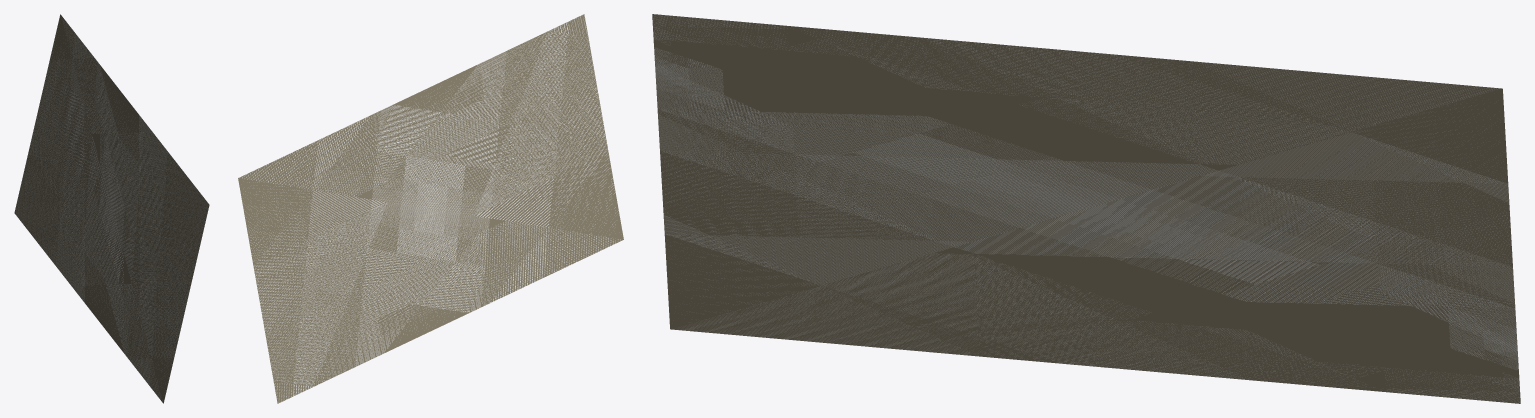
The model's file is 大本钟141.dae.
The picture shows the model from 3 angles, left to right: view 1: azimuth 30°, elevation 25°; view 2: azimuth 150°, elevation 25°; view 3: azimuth 270°, elevation 25°; orthographic projection. The views are drawn at different scales.
Parts seen in each view (by area): view 1: SketchUp; view 2: SketchUp; view 3: SketchUp.
Boxes of the visible parts, box(x1,y1,x2,y2) form: SketchUp: box(14, 14, 209, 403); SketchUp: box(238, 14, 623, 403); SketchUp: box(652, 14, 1520, 403).
Bounding box in the file's own units: 12.09 × 39.94 × 17.86.
